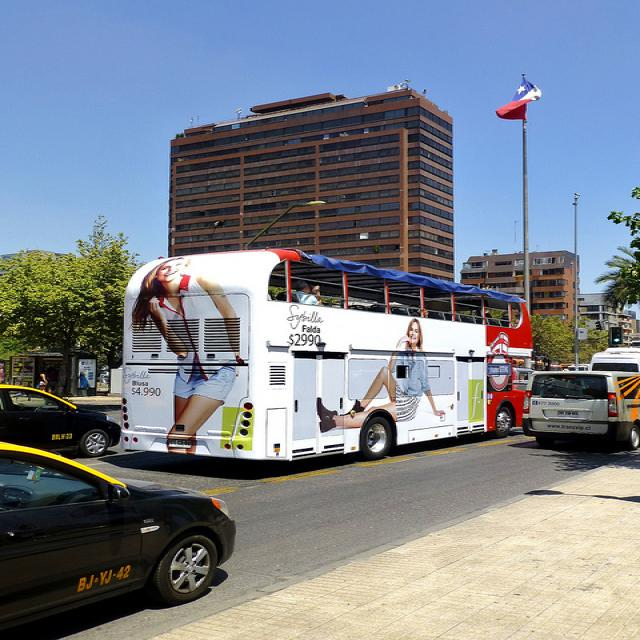Vehicle: (125, 247, 533, 463), (0, 440, 233, 632), (521, 366, 640, 452), (0, 384, 121, 456)
